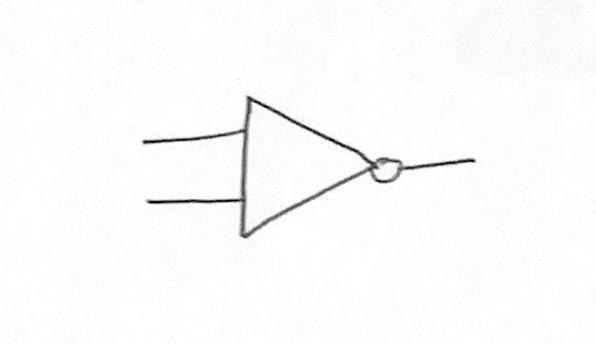NOT: (235, 84, 413, 243)
